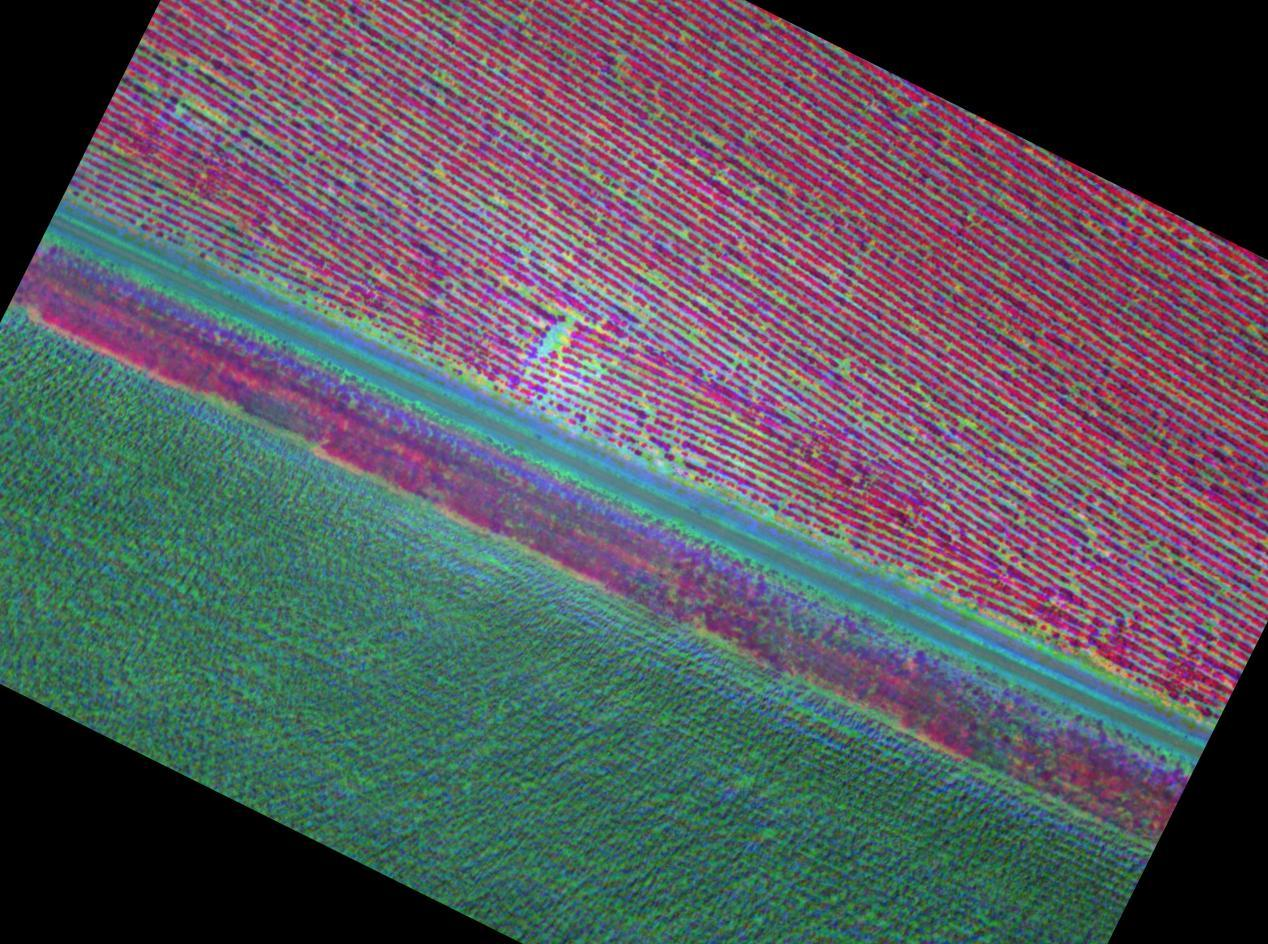dc: (544, 338, 557, 348), (555, 324, 565, 336), (649, 270, 657, 280), (177, 108, 182, 112)
